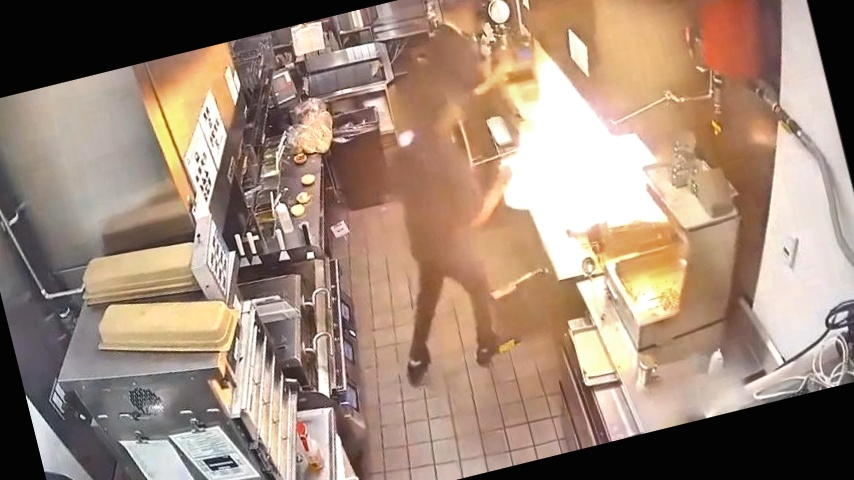fire: (453, 15, 696, 291)
